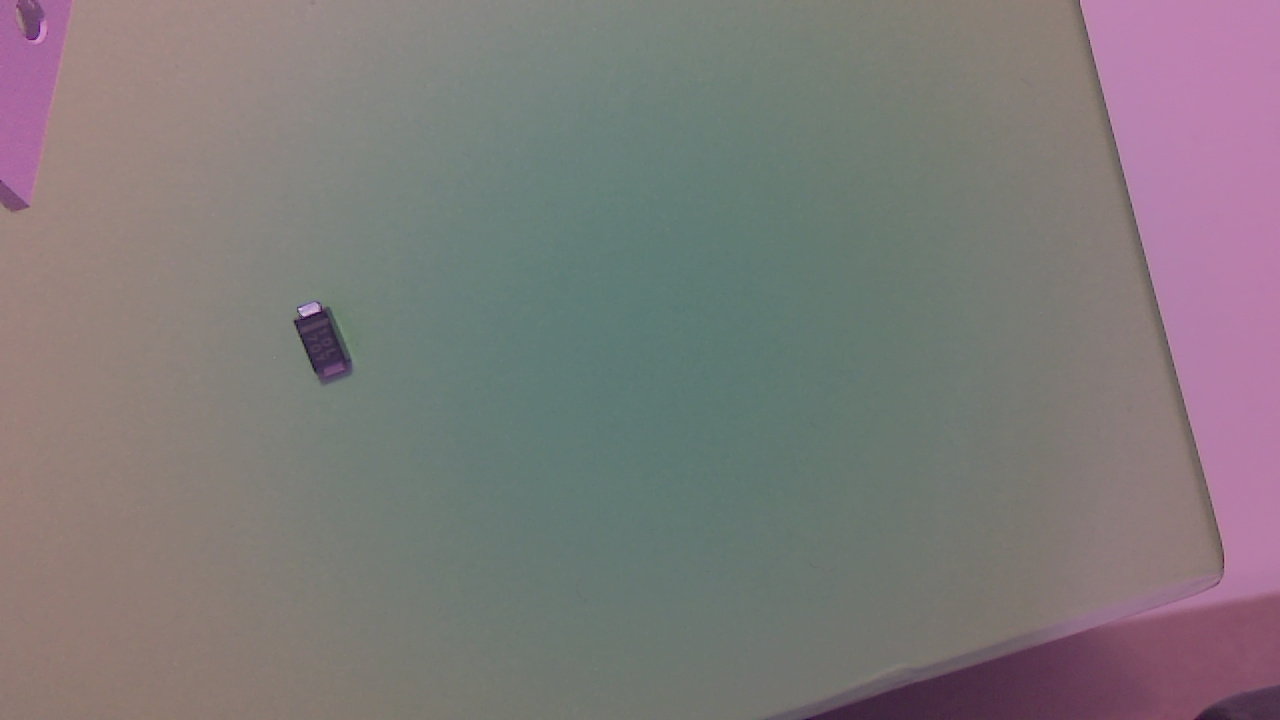Diode: (290, 302, 365, 386)
